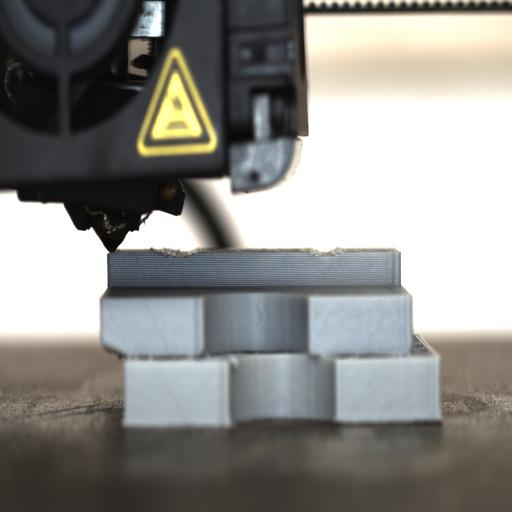layer_shift: (101, 344, 442, 367)
